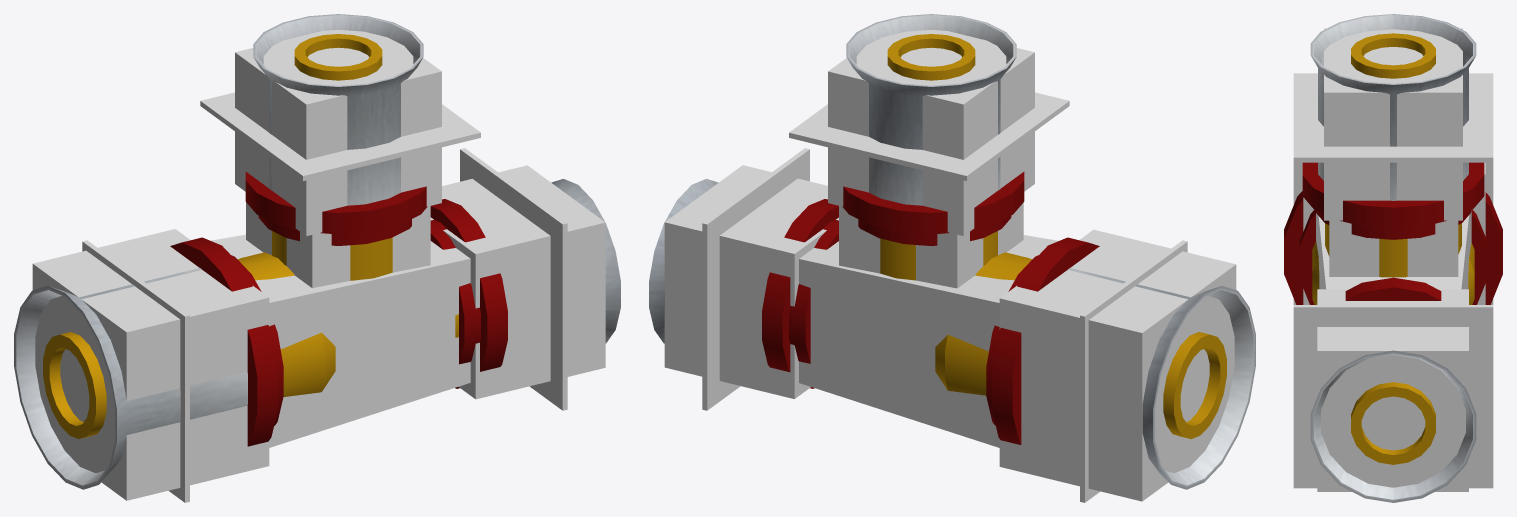
3 views of the same model, side by side, from view 1: azimuth 30°, elevation 25°; view 2: azimuth 150°, elevation 25°; view 3: azimuth 270°, elevation 25° (orthographic). The views are drawn at different scales.
Visible parts, largest first — view 1: tronik_32х26х26_COL_, tronik_32х26х26_, Box001_est_009, Box001_est_007, Box001_est_008; view 2: tronik_32х26х26_COL_, tronik_32х26х26_, Box001_est_009, Box001_est_007, Box001_est_008; view 3: tronik_32х26х26_COL_, tronik_32х26х26_, Box001_est_007, Box001_est_009, Box001_est_008.
Part boxes in pixels (box(x1,y1,x2,y2)): tronik_32х26х26_COL_: box(32, 29, 605, 500); tronik_32х26х26_: box(14, 14, 620, 489); Box001_est_009: box(200, 92, 480, 180); Box001_est_007: box(460, 148, 567, 410); Box001_est_008: box(82, 240, 189, 502); tronik_32х26х26_COL_: box(664, 29, 1236, 501); tronik_32х26х26_: box(649, 14, 1255, 489); Box001_est_009: box(789, 92, 1069, 180); Box001_est_007: box(702, 148, 809, 410); Box001_est_008: box(1080, 240, 1187, 502); tronik_32х26х26_COL_: box(1303, 28, 1485, 491); tronik_32х26х26_: box(1284, 14, 1502, 502); Box001_est_007: box(1293, 305, 1493, 488); Box001_est_009: box(1293, 73, 1493, 162); Box001_est_008: box(1293, 162, 1493, 304).
Bounding box in the file's own units: 0.1037 × 0.0722 × 0.0395.
3 materials, 1 textured.
